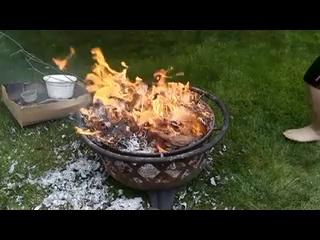Fire: (94, 43, 205, 136)
